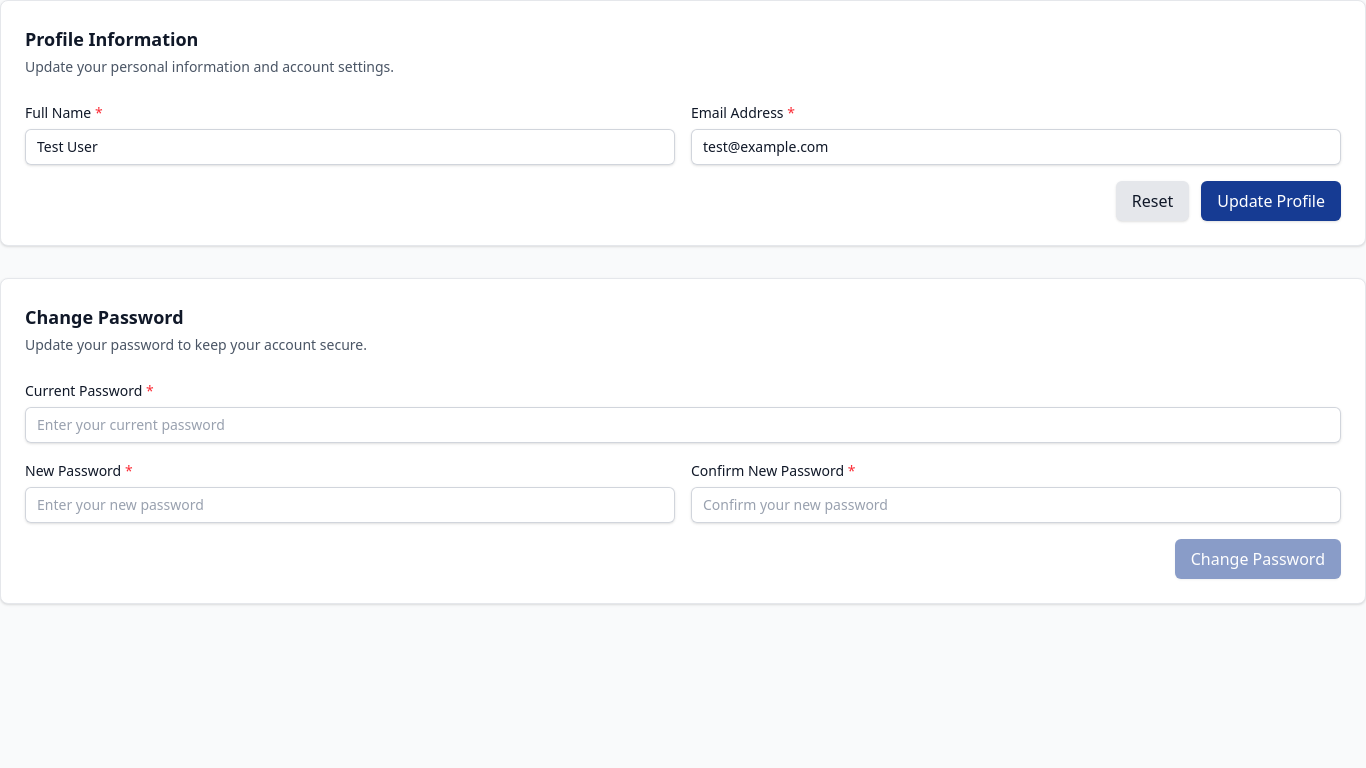
it: ProfileSettings › Password Change Form › should display success message after password change
This screenshot has width=1366, height=768.
Type "oldpassword" into the password field with test id "current-password-input".
click(683, 425); type("oldpassword")  # box [25, 407, 1341, 443]
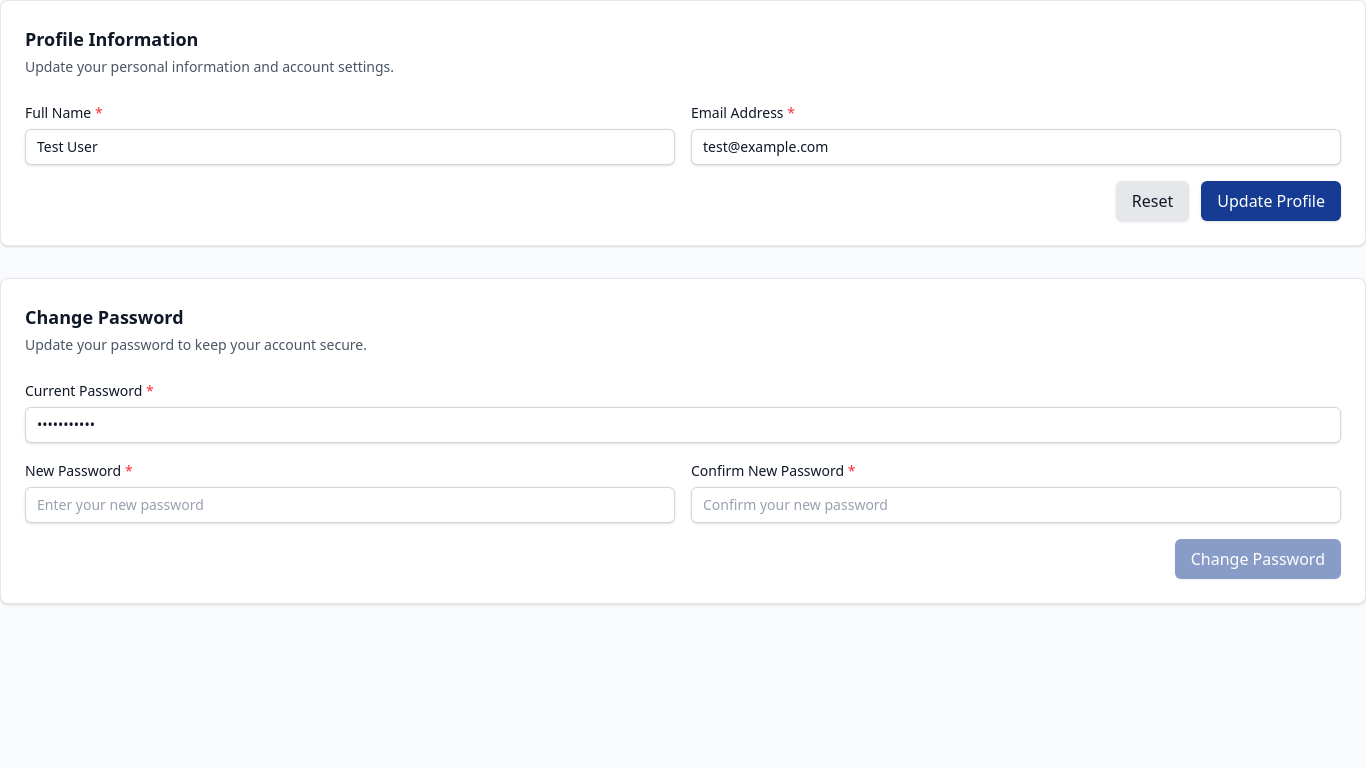
Type "newpassword123" into the password field with test id "new-password-input".
click(350, 505); type("newpassword123")  # box [25, 487, 675, 523]
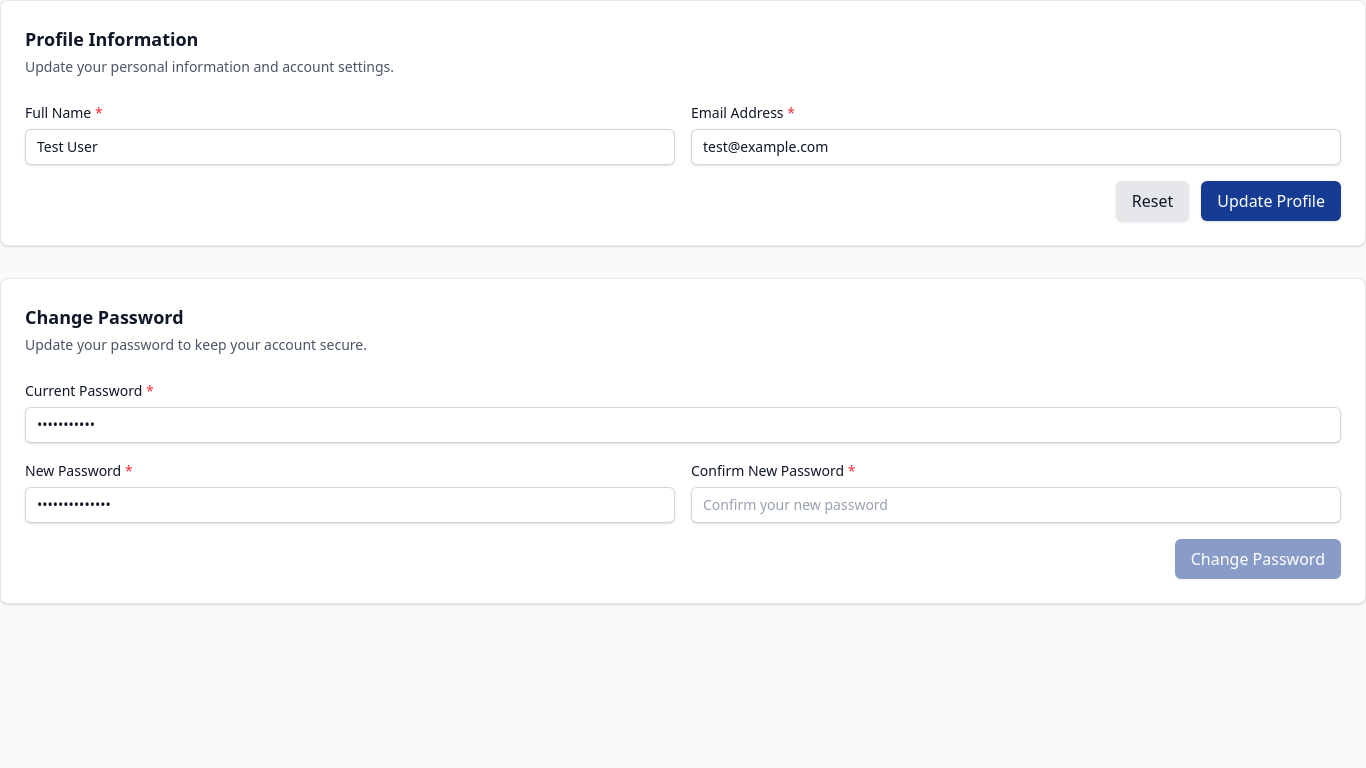
Type "newpassword123" into the password field with test id "confirm-password-input".
click(1016, 505); type("newpassword123")  # box [691, 487, 1341, 523]
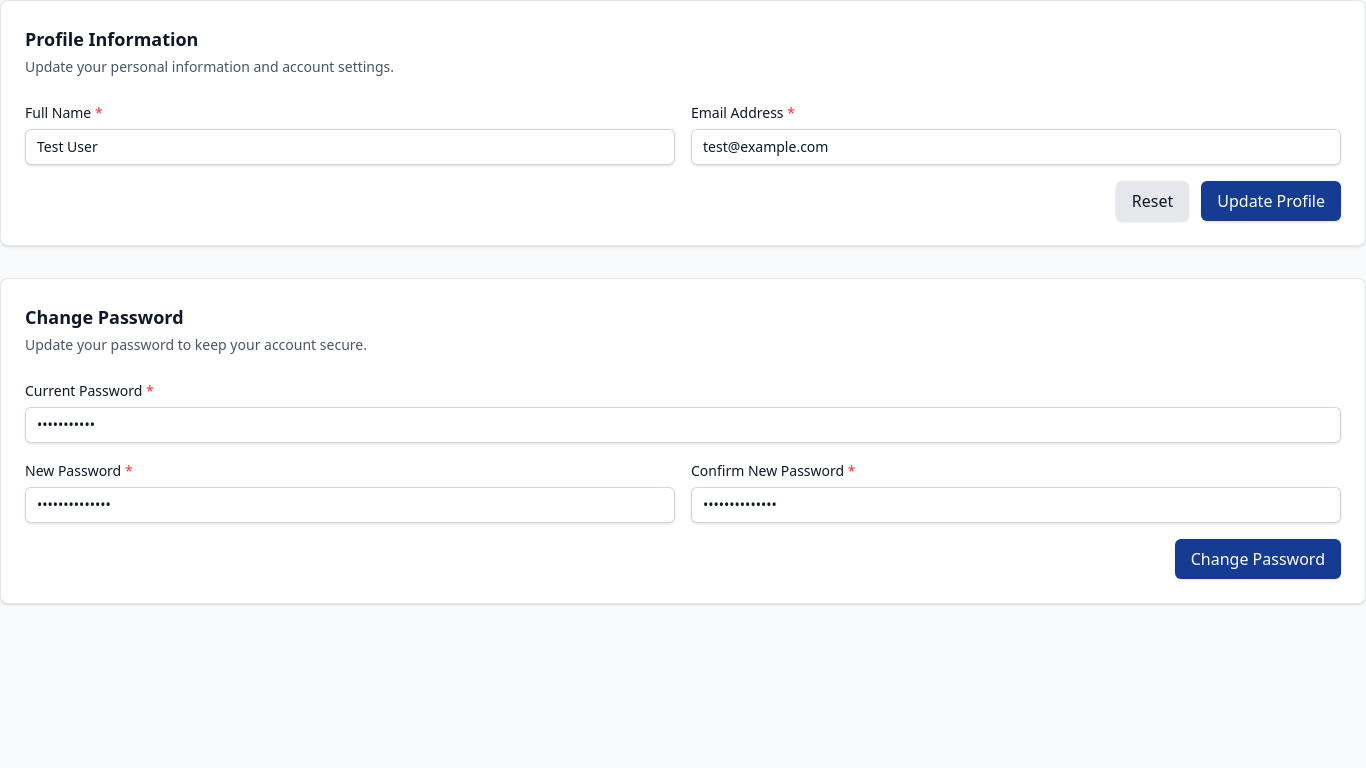
Click the button "Change Password".
click(1258, 559)  # box [1175, 539, 1341, 579]
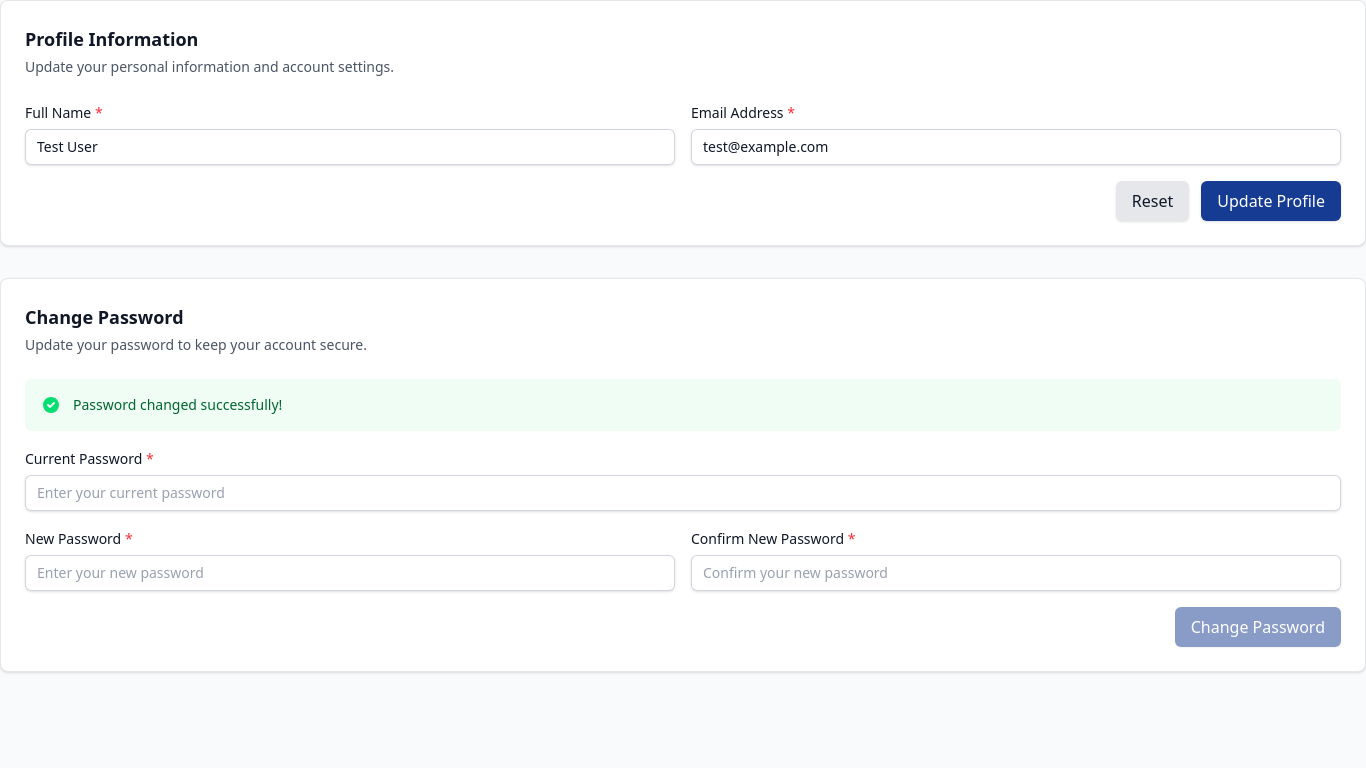
Now the text "Password changed successfully!" is shown, box [73, 395, 282, 415]
